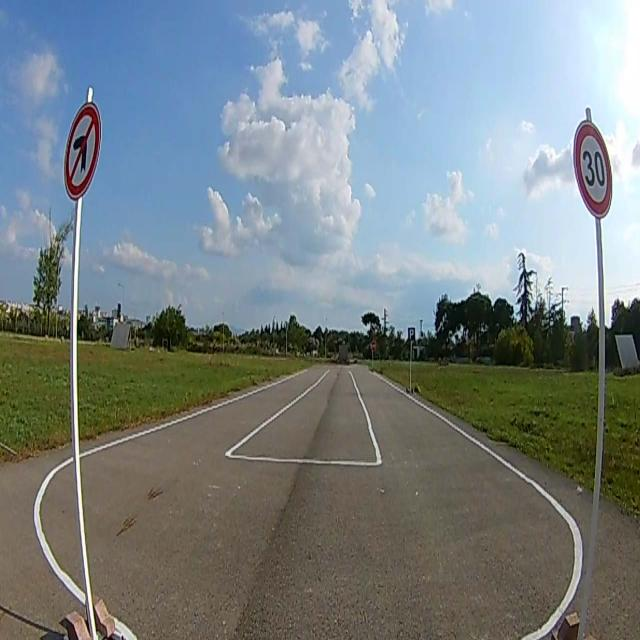30: (573, 120, 613, 217)
soladonulmez: (64, 103, 101, 197)
